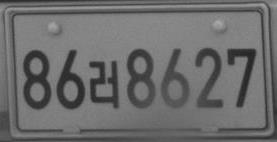2: (194, 46, 223, 108)
6: (55, 49, 86, 110), (159, 48, 190, 109)
7: (226, 47, 257, 108)
8: (21, 48, 51, 109), (125, 47, 155, 108)
러: (88, 59, 119, 109)
